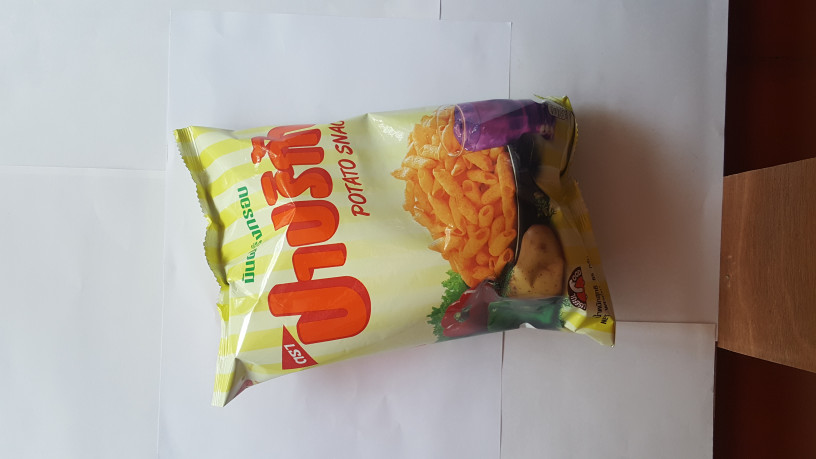paprika: (167, 97, 611, 423)
